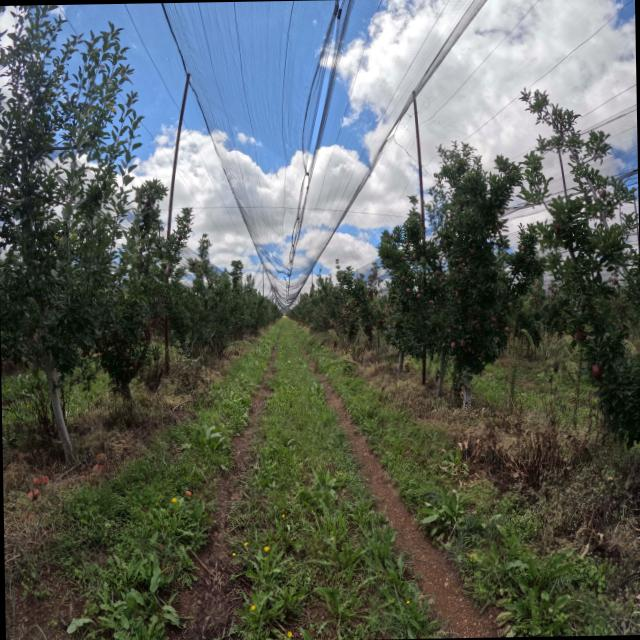-FireBlight-: (138, 315, 165, 345)
